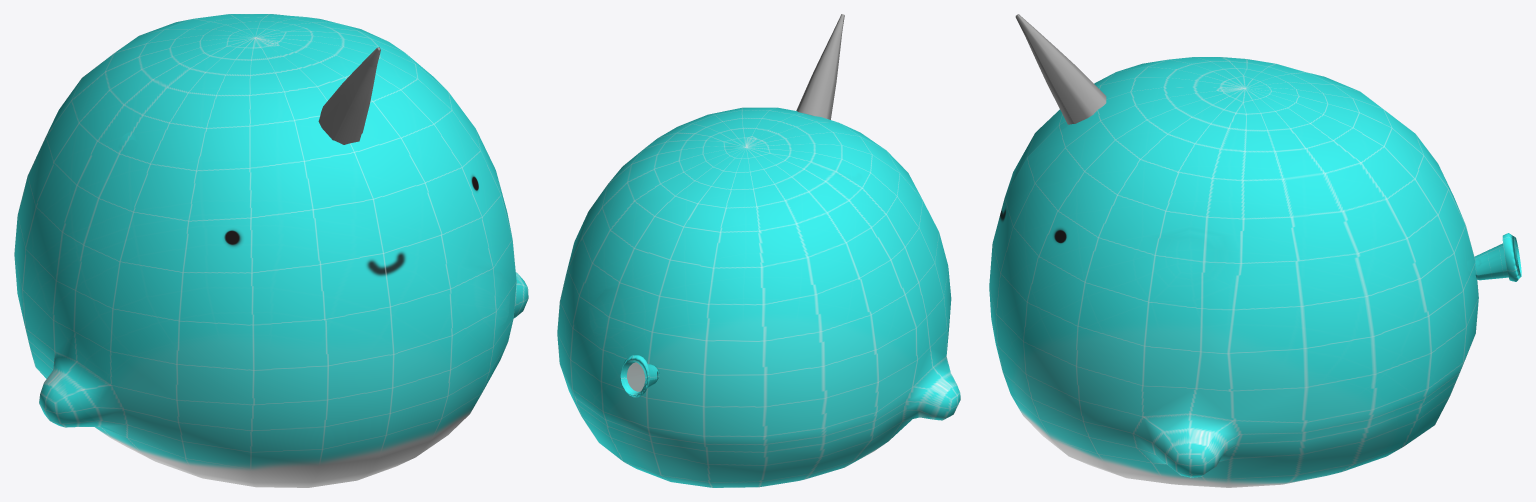
Rendered from ExportedFBXFile.fbx.
The picture shows the model from 3 angles, left to right: view 1: azimuth 30°, elevation 25°; view 2: azimuth 150°, elevation 25°; view 3: azimuth 270°, elevation 25°; orthographic projection. The views are drawn at different scales.
Parts seen in each view (by area): view 1: pSphere10, pCube1; view 2: pSphere10, pCube1, pCylinder1; view 3: pSphere10, pCube1, pCylinder1.
Boxes of the visible parts, x1,y1,x2,y2 form: pSphere10: [14, 14, 528, 487]; pCube1: [318, 47, 380, 144]; pSphere10: [557, 107, 960, 487]; pCube1: [796, 14, 844, 119]; pCylinder1: [620, 355, 659, 397]; pSphere10: [989, 57, 1478, 487]; pCube1: [1015, 14, 1106, 124]; pCylinder1: [1474, 233, 1521, 281].
Bounding box in the file's own units: 2.02 × 1.91 × 2.1.
